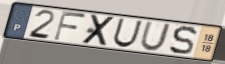2: (28, 9, 57, 41)
F: (52, 10, 88, 43)
S: (168, 25, 199, 56)
U: (138, 21, 172, 53), (112, 17, 145, 49)
X: (80, 14, 118, 47)
